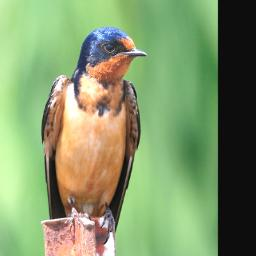Swallow: (41, 26, 148, 247)
